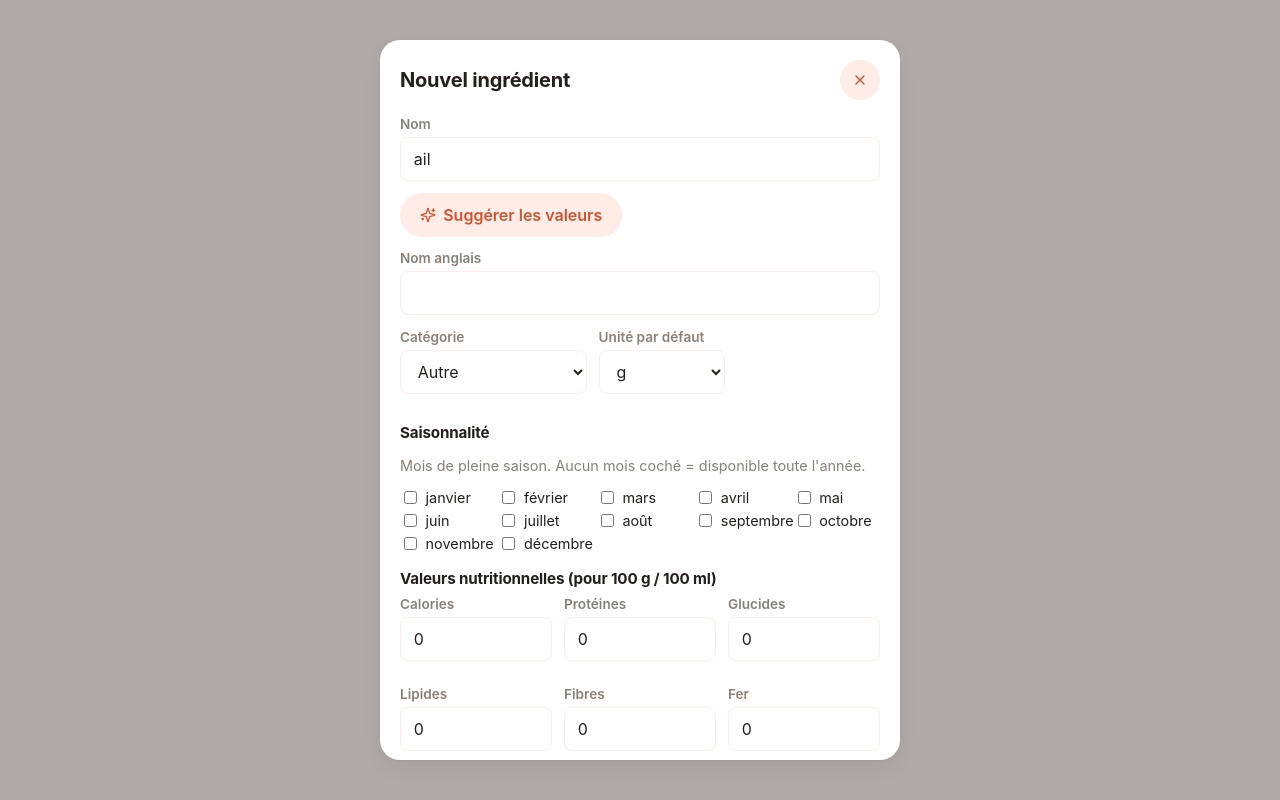
Scenario: IngredientEditModal › applies the suggested carbon footprint alongside nutrition values
Click the button with id "ingredient-modal-suggest" at (511,215), box [400,193,622,237]
(page scrolled)
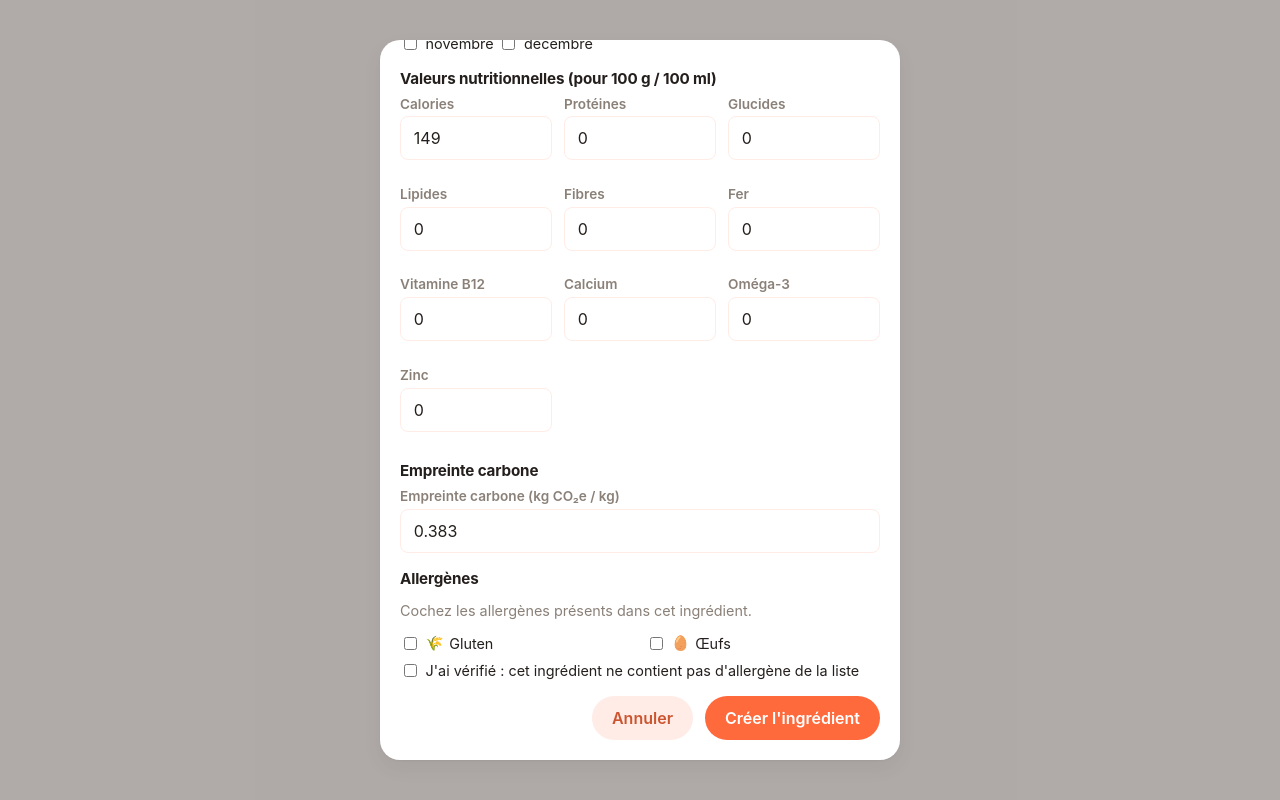
Expected: the number field with id "ingredient-modal-carbon" holds "0.383", [400,509,880,553]
